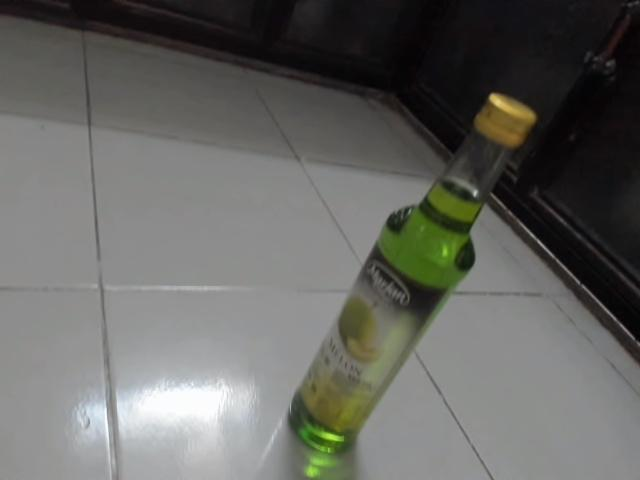botol_kaca: (277, 84, 545, 464)
